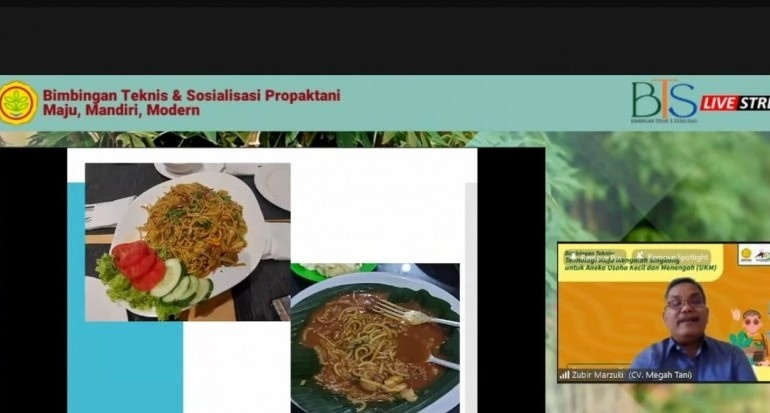mie_aceh: (304, 294, 436, 413), (142, 181, 250, 274)
